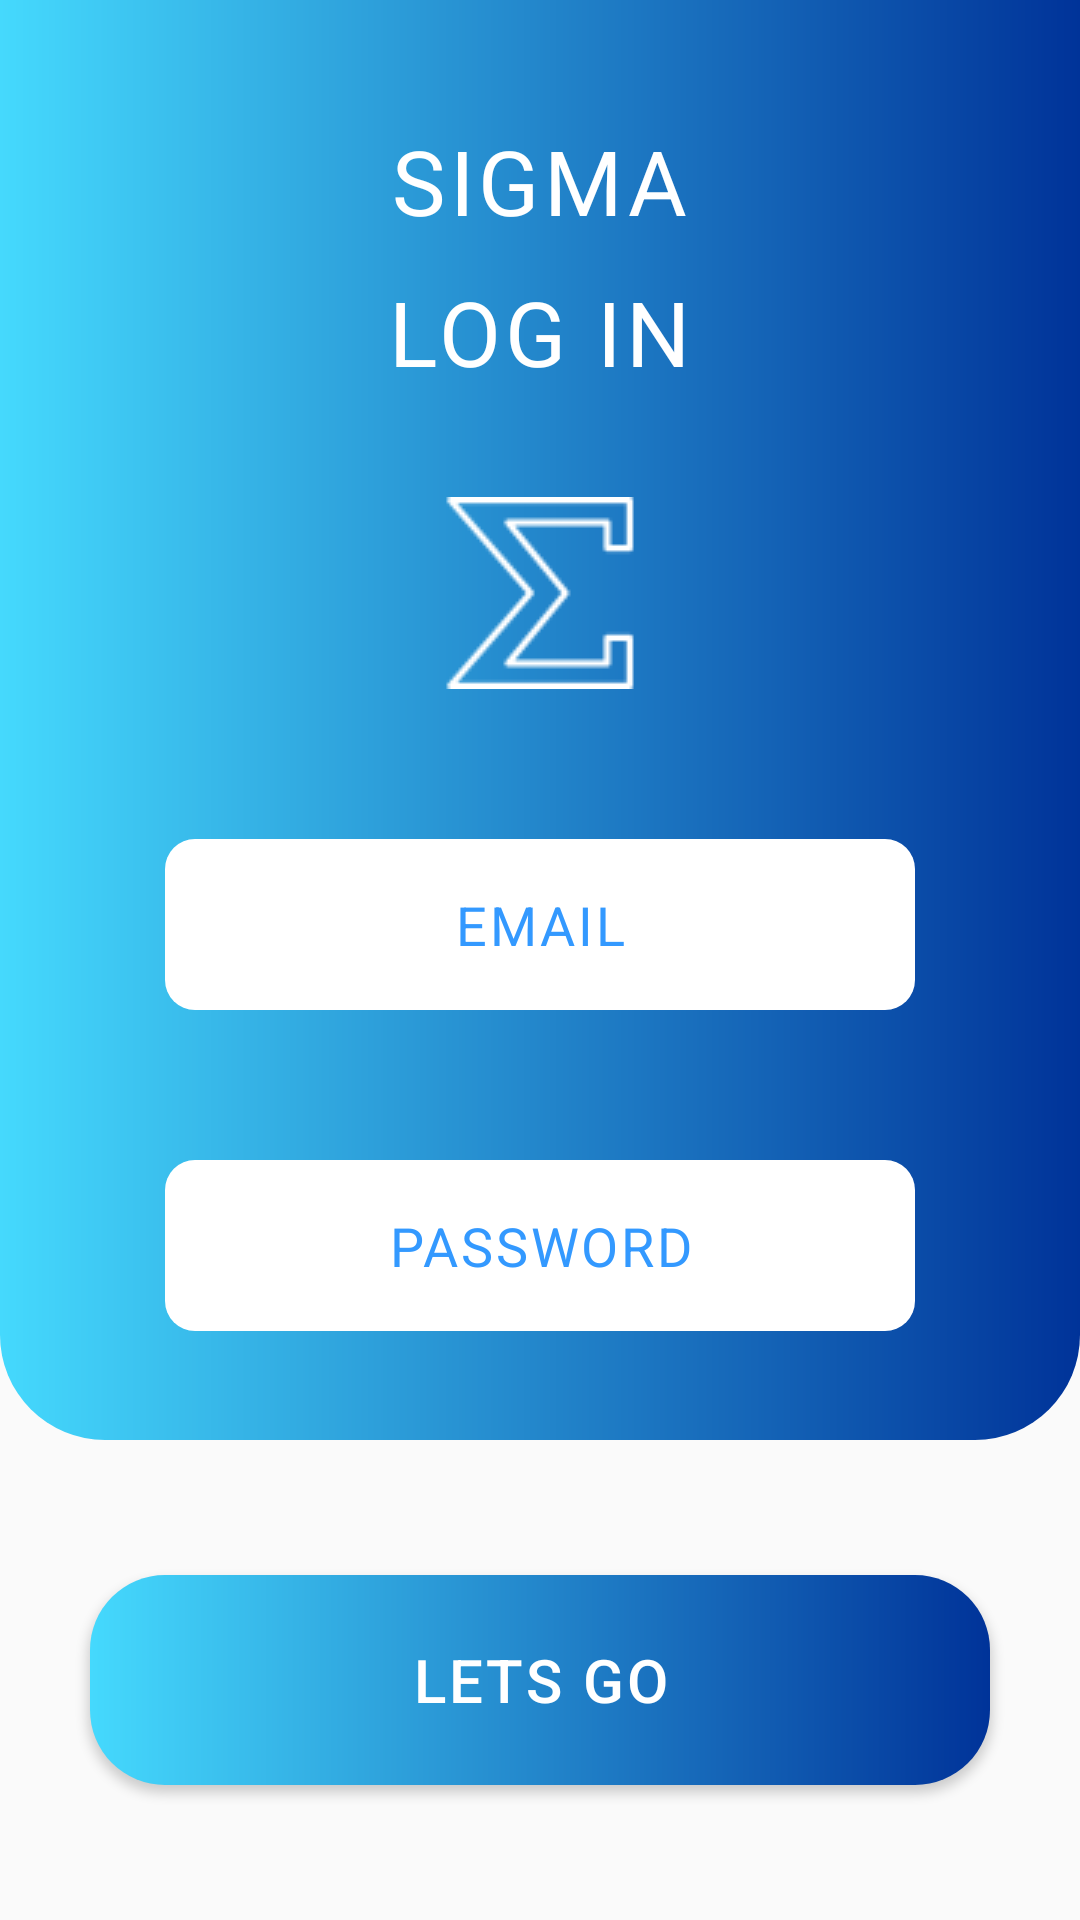

Icons on this 1080w x 1920h Android screen, each with the point to tap as point (x, y):
sum: point (541, 593)
